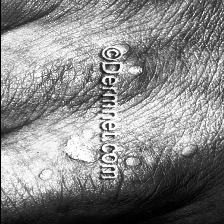Toxin: (66, 135, 96, 164), (176, 142, 200, 160)
